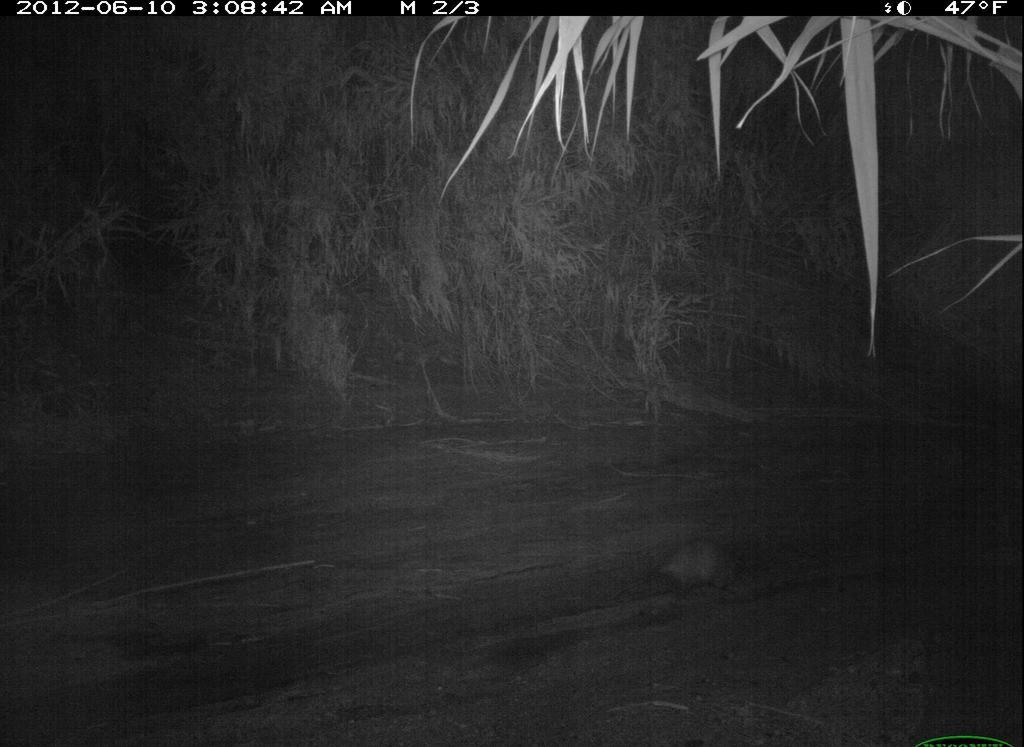opossum: (613, 523, 775, 616)
